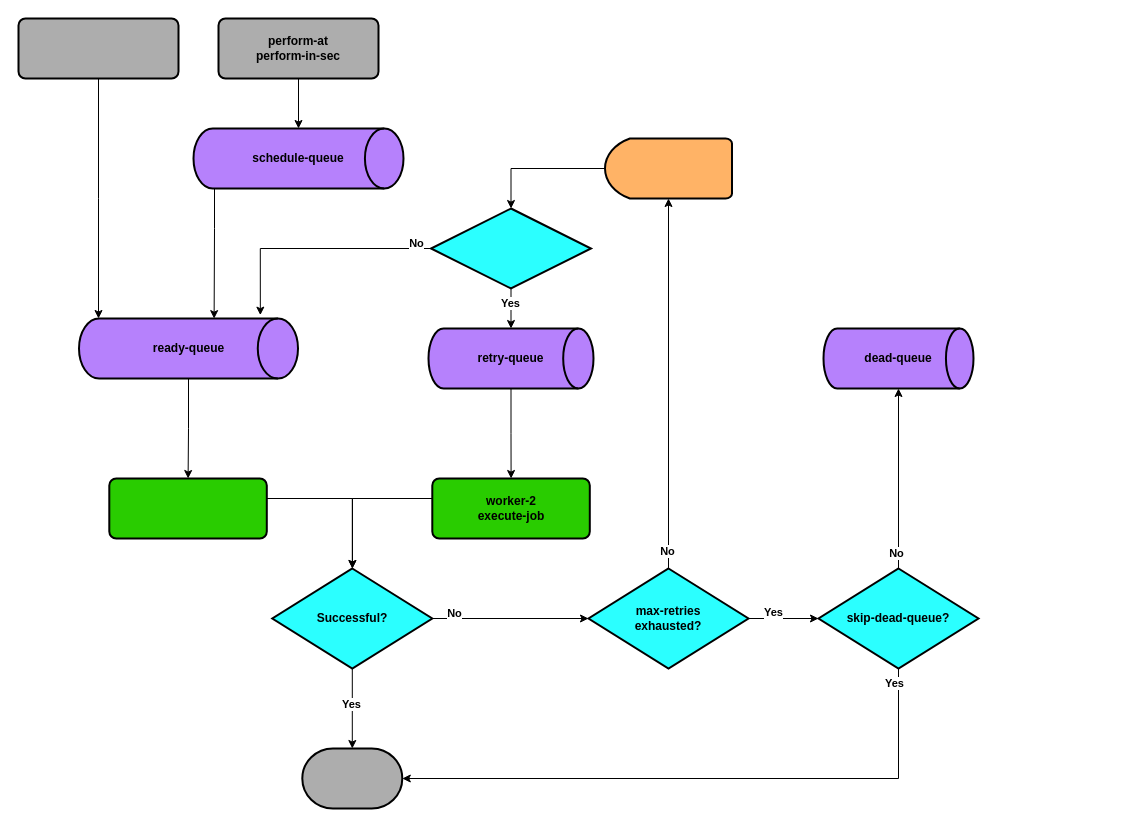
Image size: 1135x826. Some labels were removed from this diagram. Here are the shapes that lost their labels. From the top down, the box of each, then its label:
(17, 17, 179, 79): perform-async
(604, 137, 732, 199): retry-backoff
(430, 207, 592, 289): retry-queue?
(108, 477, 267, 539): worker-1 execute-job
(301, 747, 403, 809): Stop
